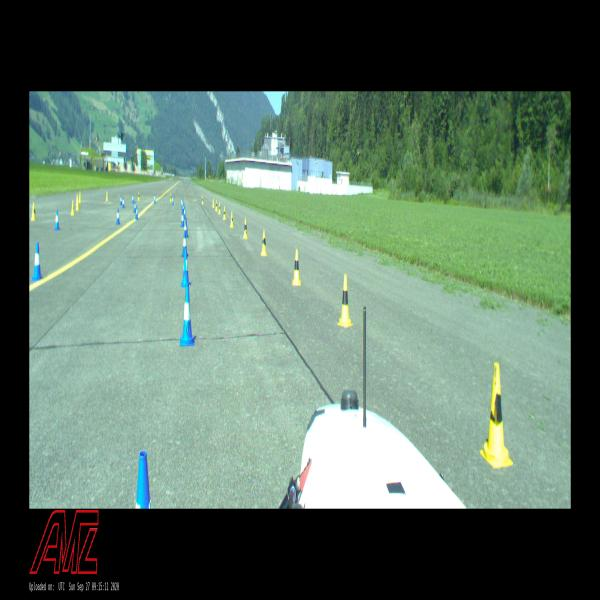blue_cone: (135, 451, 151, 508), (180, 286, 195, 346), (31, 242, 42, 280), (181, 248, 191, 287), (182, 230, 188, 257), (54, 210, 60, 230), (184, 218, 188, 237), (180, 209, 184, 227), (116, 209, 120, 224), (135, 206, 138, 220), (133, 201, 136, 212), (184, 206, 186, 219), (122, 197, 124, 209), (154, 193, 156, 204), (132, 194, 134, 204), (120, 195, 122, 205), (172, 195, 174, 205)
yellow_cone: (480, 362, 513, 468), (337, 274, 353, 328), (292, 249, 301, 286), (261, 230, 267, 256), (243, 218, 248, 239), (31, 203, 35, 220), (230, 211, 234, 228), (71, 200, 75, 215), (223, 206, 226, 220), (76, 197, 79, 210), (218, 202, 221, 214), (215, 200, 218, 212), (212, 198, 215, 208), (79, 192, 81, 203), (106, 191, 108, 201), (170, 193, 172, 202), (138, 192, 140, 201), (202, 195, 204, 204)
